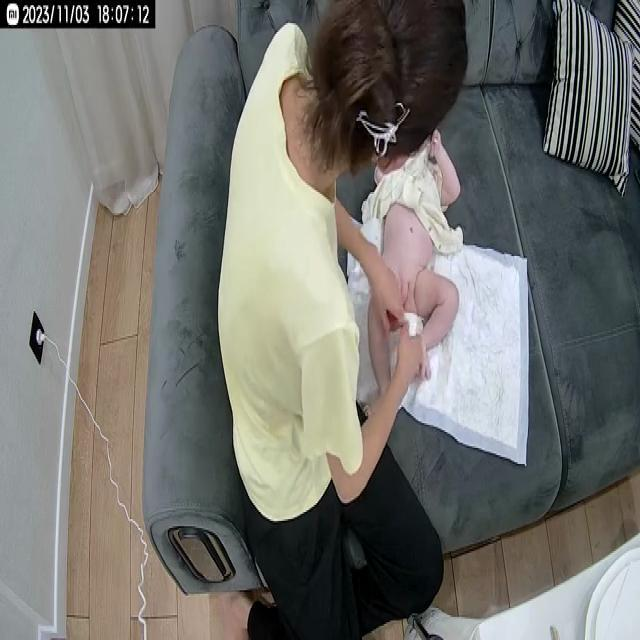baby: (370, 122, 464, 420)
